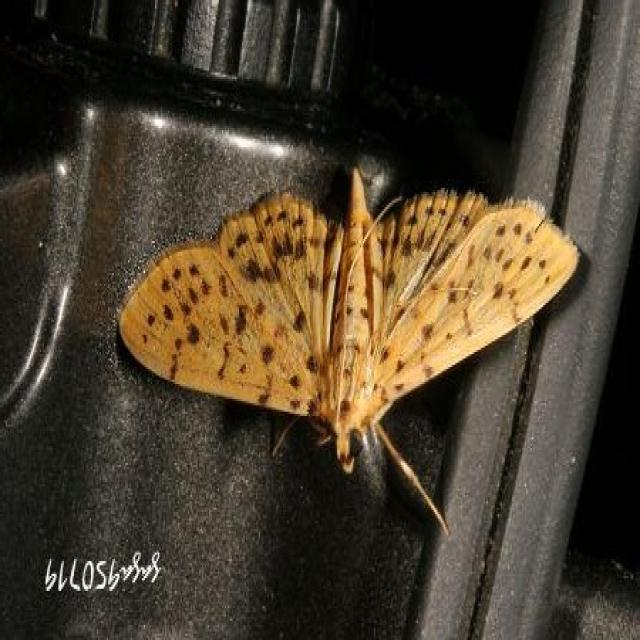peach borer: (116, 165, 578, 481)
